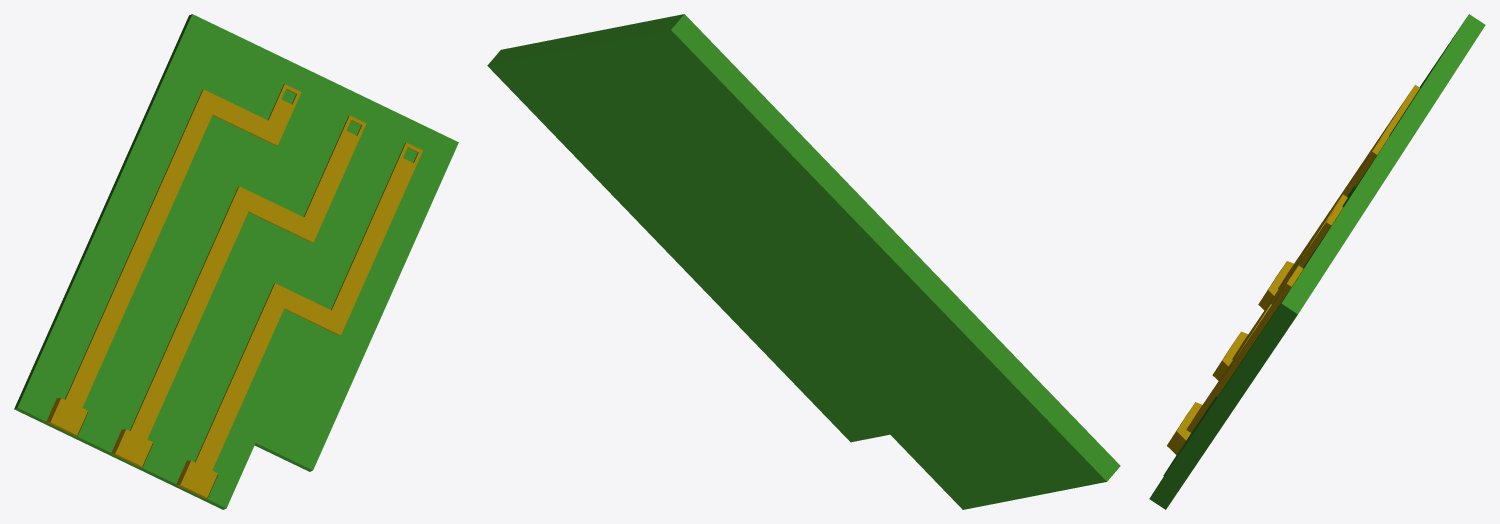
The model's file is ElBoard.fbx.
3 renders of one model, left to right at view 1: azimuth 30°, elevation 25°; view 2: azimuth 150°, elevation 25°; view 3: azimuth 270°, elevation 25°, orthographic. The views are drawn at different scales.
Parts seen in each view (by area): view 1: Drop_Electric.001; view 2: Drop_Electric.001; view 3: Drop_Electric.001.
Part boxes in pixels (x1,y1,x2,y2): Drop_Electric.001: [14, 14, 458, 509]; Drop_Electric.001: [487, 14, 1120, 509]; Drop_Electric.001: [1149, 14, 1485, 509].
Size of the model in its own units: 0.7969 by 0.4061 by 0.6969.
